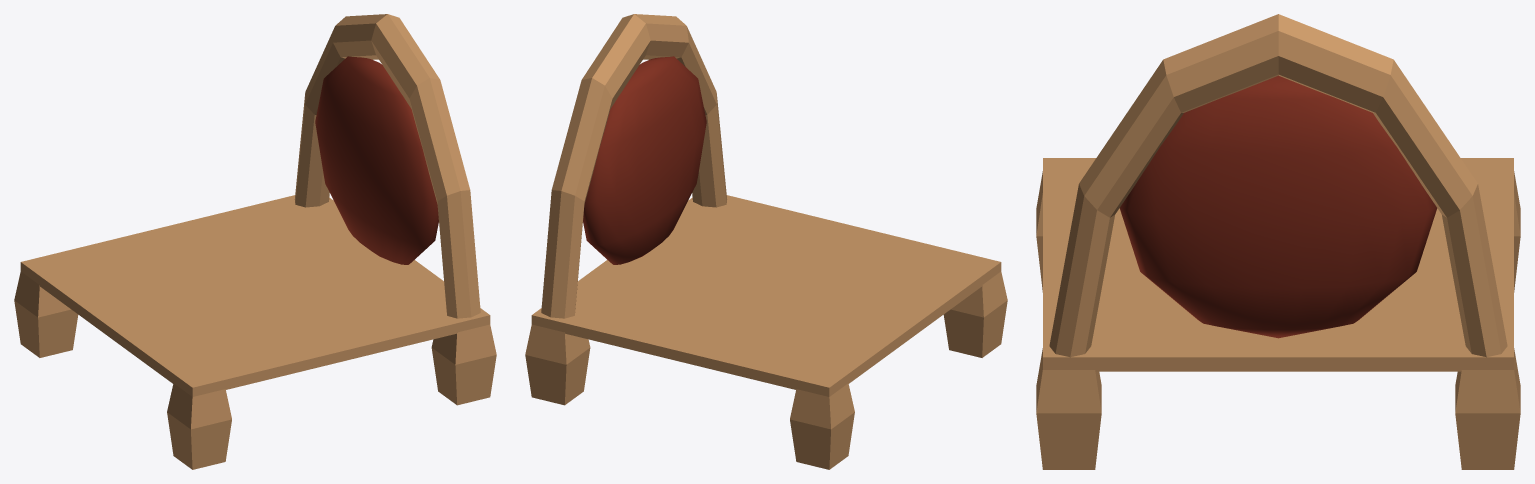
Rendered from Chair.fbx.
3 renders of one model, left to right at view 1: azimuth 30°, elevation 25°; view 2: azimuth 150°, elevation 25°; view 3: azimuth 270°, elevation 25°, orthographic. The views are drawn at different scales.
Parts seen in each view (by area): view 1: Cube.001; view 2: Cube.001; view 3: Cube.001.
Part boxes in pixels (x1,y1,x2,y2): Cube.001: (14,14,496,469); Cube.001: (525,14,1007,469); Cube.001: (1036,14,1520,469).
Bounding box in the file's own units: 185 × 188 × 185.
